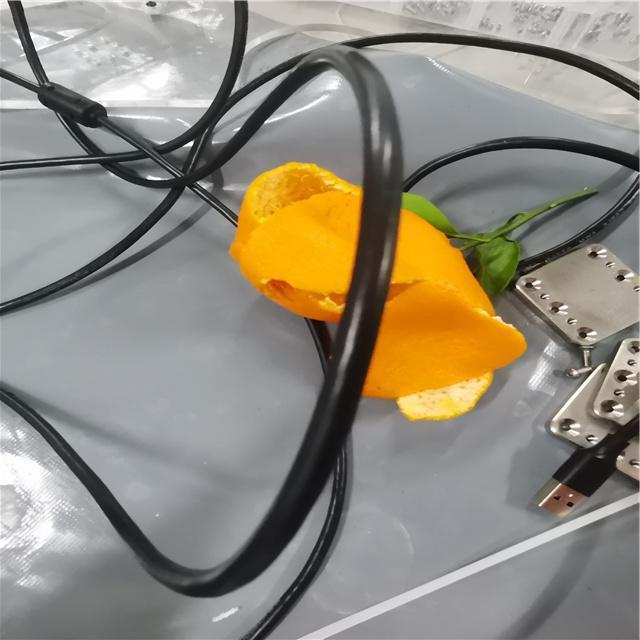orange peel: (227, 161, 527, 422)
